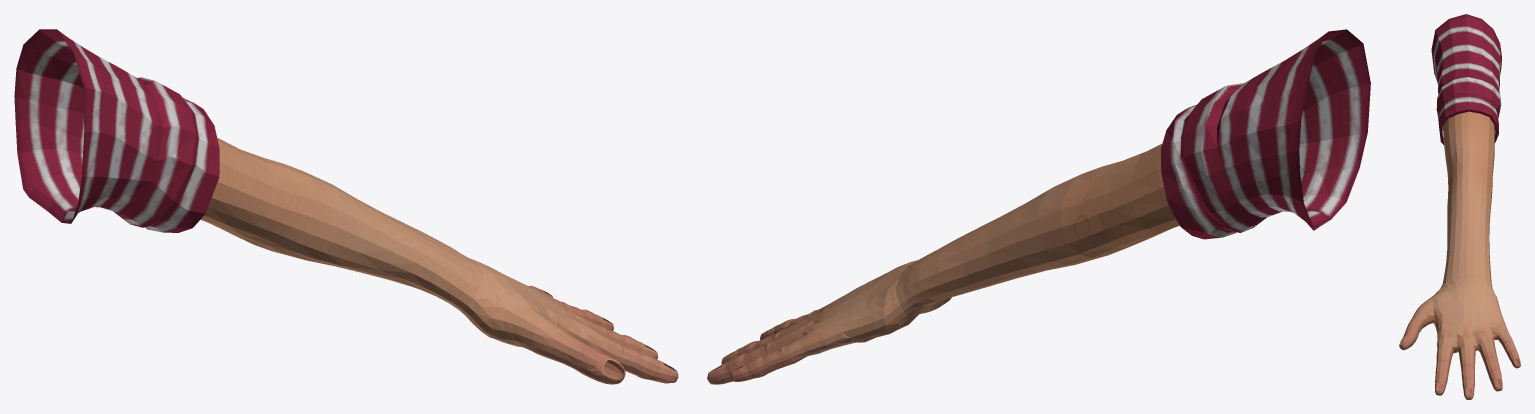
Rendered from brazo_izquierdo.obj.
3 views of the same model, side by side, from view 1: azimuth 30°, elevation 25°; view 2: azimuth 150°, elevation 25°; view 3: azimuth 270°, elevation 25° (orthographic). The views are drawn at different scales.
Visible parts, largest first — view 1: Object018; view 2: Object018; view 3: Object018.
Part boxes in pixels (left/top/right/bottom): Object018: left=14, top=29, right=678, bottom=384; Object018: left=707, top=29, right=1370, bottom=384; Object018: left=1399, top=14, right=1520, bottom=399.
Bounding box in the file's own units: 0.6586 × 0.4946 × 0.2276.
2 materials, 2 textured.
